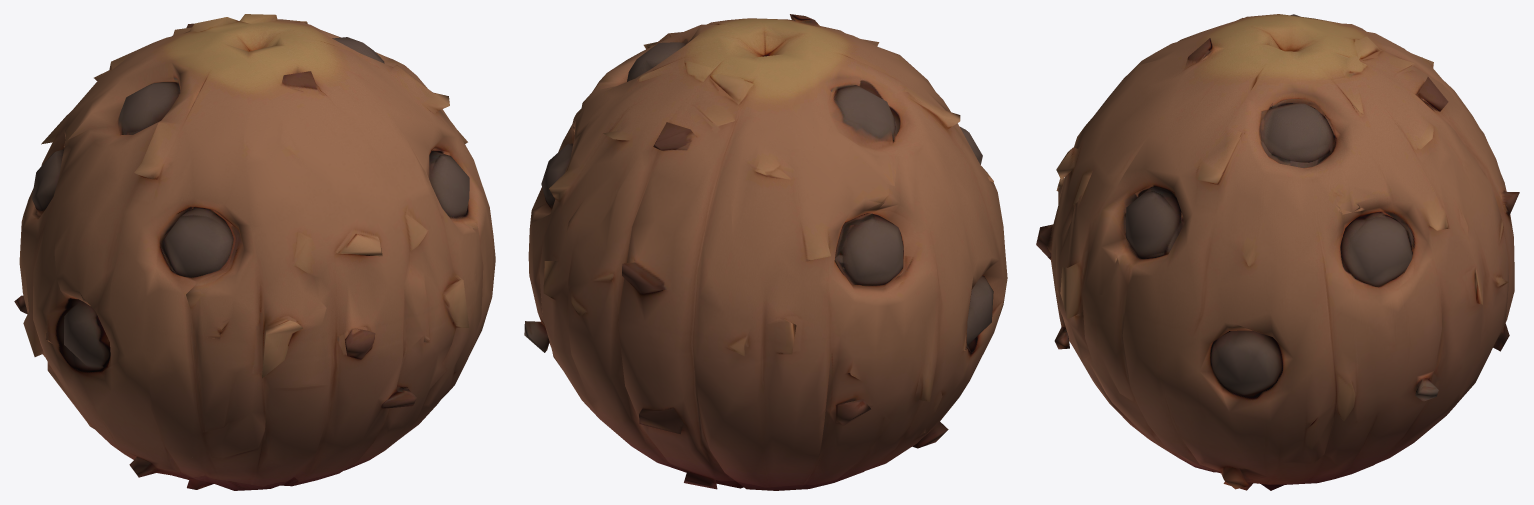
Rendered from ammo-coconut.glb.
3 renders of one model, left to right at view 1: azimuth 30°, elevation 25°; view 2: azimuth 150°, elevation 25°; view 3: azimuth 270°, elevation 25°, orthographic.
Parts seen in each view (by area): view 1: tripo_node_e4749668-7868-4ea5-a2a7-0cc2e32e7f93; view 2: tripo_node_e4749668-7868-4ea5-a2a7-0cc2e32e7f93; view 3: tripo_node_e4749668-7868-4ea5-a2a7-0cc2e32e7f93.
Boxes of the visible parts, x1,y1,x2,y2 form: tripo_node_e4749668-7868-4ea5-a2a7-0cc2e32e7f93: [14, 14, 495, 490]; tripo_node_e4749668-7868-4ea5-a2a7-0cc2e32e7f93: [524, 14, 1007, 490]; tripo_node_e4749668-7868-4ea5-a2a7-0cc2e32e7f93: [1036, 14, 1519, 490].
Size of the model in its own units: 0.9616 by 0.9571 by 0.9839.
Materials: 1 (1 with a texture image).
